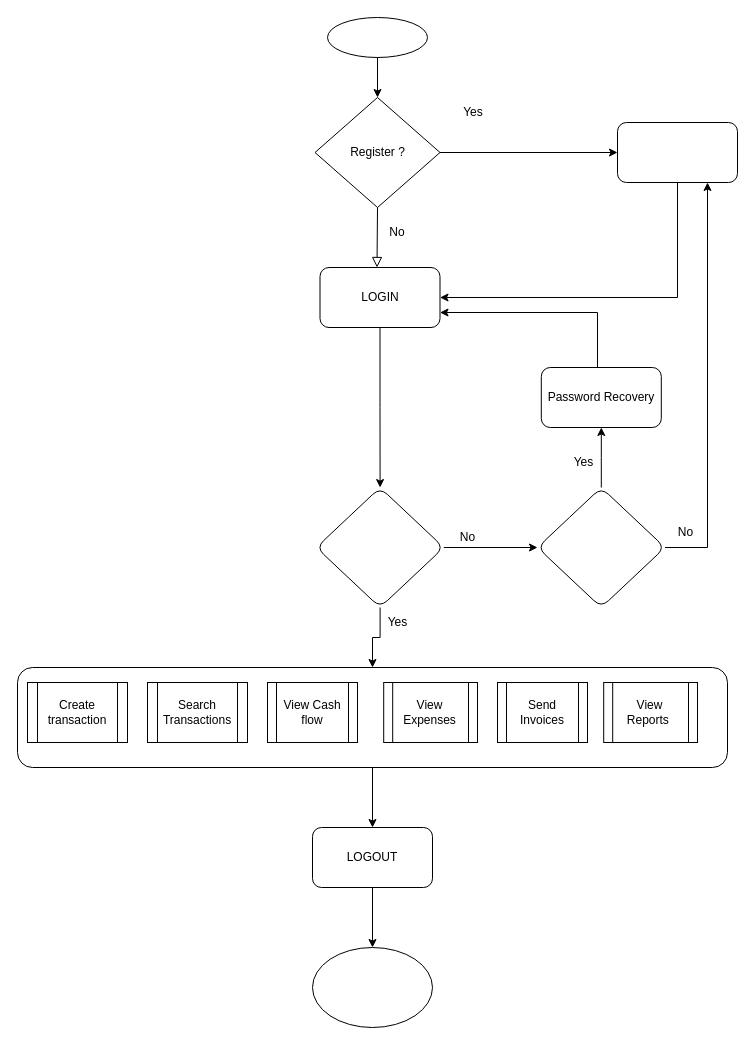
Image size: 755x1045. Some labels were removed from this diagram. The shapes that lost their labels are listed below. From the top down, each one's centre as x and y in pixels, then its label:
At pixel 377 37: "START".
At pixel 677 152: "Register".
At pixel 379 547: "Registered ?".
At pixel 600 547: "Forgot password ?".
At pixel 372 987: "END".
